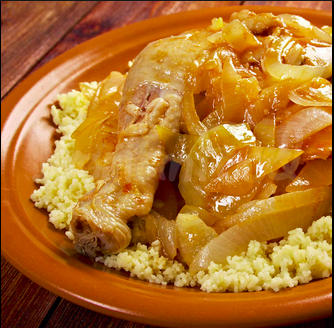attieke: (39, 166, 81, 208)
oignon: (208, 48, 324, 209)
poulet yassa: (116, 60, 161, 192)
